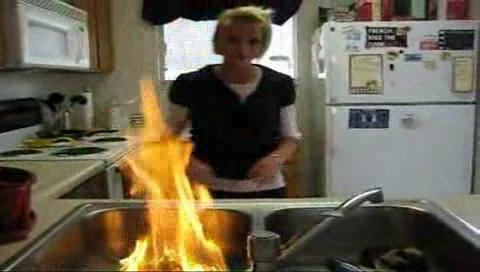fire: (118, 71, 234, 272)
